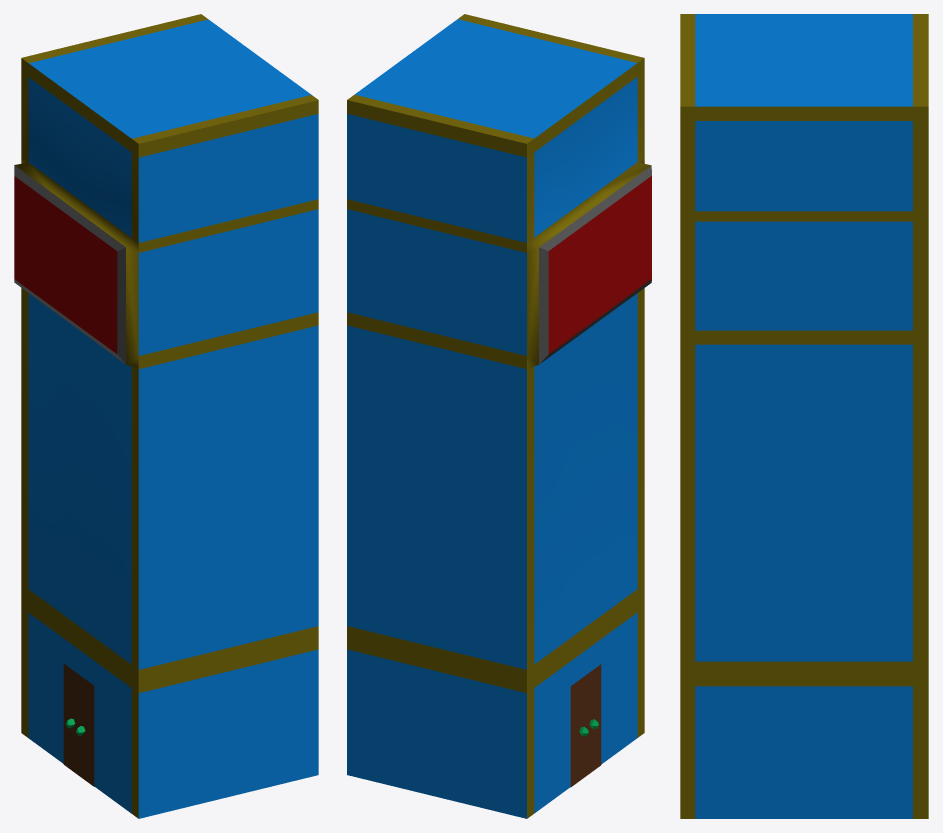
Rendered from Building_TV.fbx.
The picture shows the model from 3 angles, left to right: view 1: azimuth 30°, elevation 25°; view 2: azimuth 150°, elevation 25°; view 3: azimuth 270°, elevation 25°; orthographic projection. The views are drawn at different scales.
Parts seen in each view (by area): view 1: Door_polySurface1239; view 2: Door_polySurface1239; view 3: Door_polySurface1239.
Boxes of the visible parts, box(x1,y1,x2,y2) form: Door_polySurface1239: box(14, 14, 318, 818); Door_polySurface1239: box(347, 14, 651, 818); Door_polySurface1239: box(680, 14, 928, 818).
Bounding box in the file's own units: 55.25 × 183 × 57.87.
